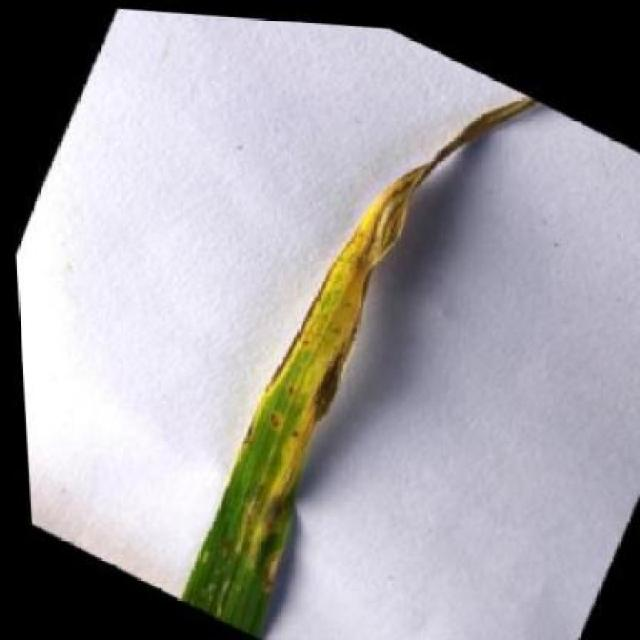Rice False Smut: (146, 15, 559, 640)
